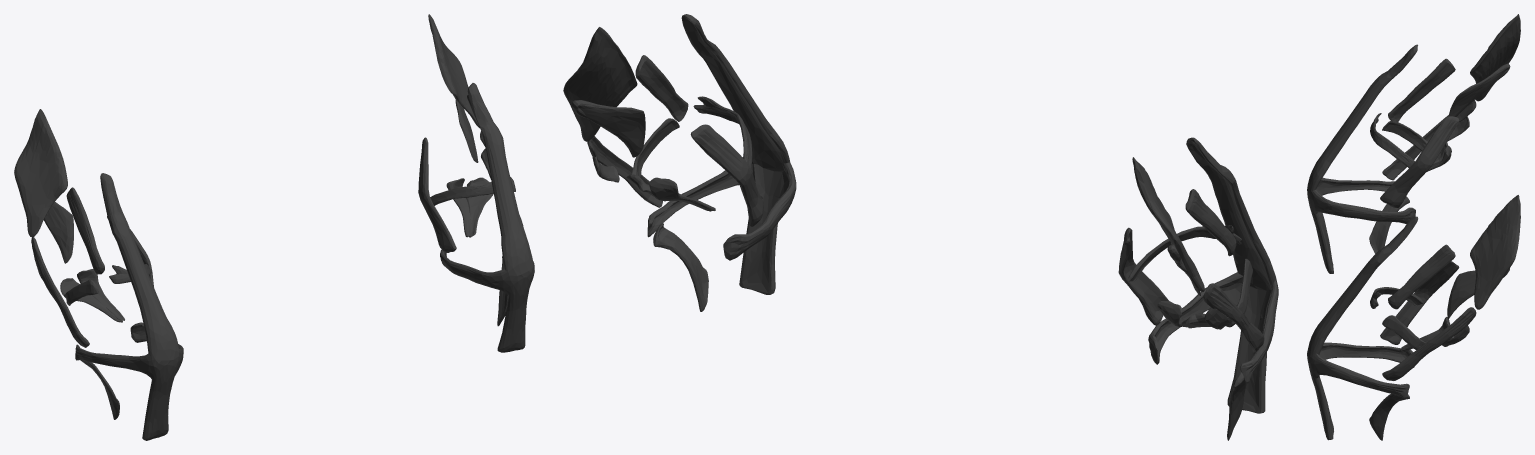
Rendered from details_HL_stifle.glb.
3 renders of one model, left to right at view 1: azimuth 30°, elevation 25°; view 2: azimuth 150°, elevation 25°; view 3: azimuth 270°, elevation 25°, orthographic. The views are drawn at different scales.
Visible parts, largest first — view 1: details_HL_stifle; view 2: details_HL_stifle; view 3: details_HL_stifle.
Part boxes in pixels (x1=…): details_HL_stifle: x1=14, y1=14, x2=534, y2=440; details_HL_stifle: x1=563, y1=14, x2=1278, y2=440; details_HL_stifle: x1=1307, y1=14, x2=1520, y2=440.
Bounding box in the file's own units: 0.0548 × 0.0297 × 0.0231.
1 material, 1 textured.
